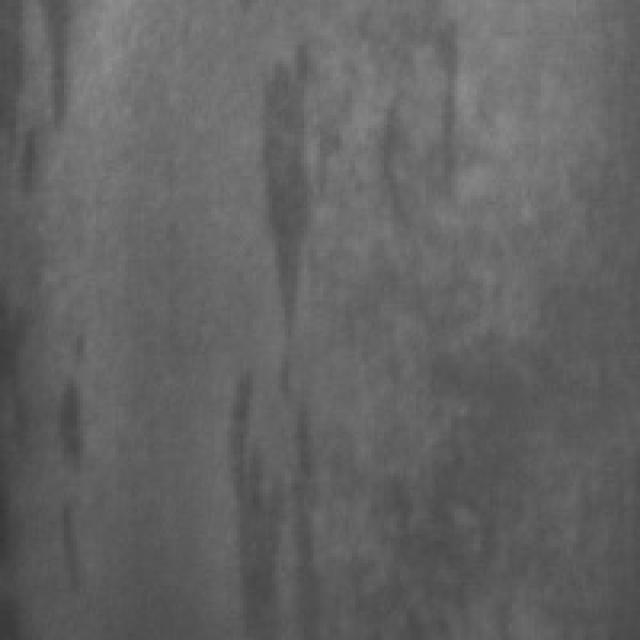inclusion: (227, 16, 346, 627), (42, 317, 128, 595), (368, 9, 474, 230), (6, 0, 96, 202)
